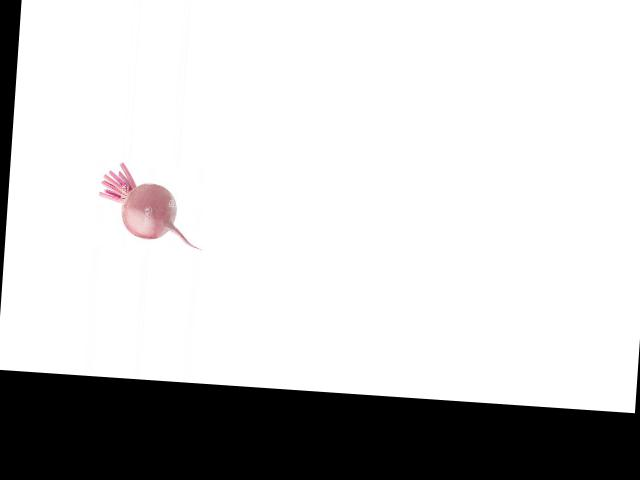beet: (95, 160, 205, 250)
